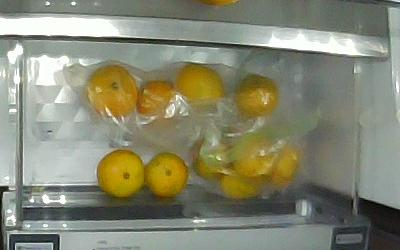tangerine: (95, 150, 145, 197), (145, 151, 188, 200)
tangerine_vinyl: (87, 65, 138, 120), (173, 63, 227, 108), (232, 133, 279, 182), (235, 74, 282, 120), (193, 136, 233, 183), (266, 142, 302, 193), (136, 81, 178, 121), (218, 169, 266, 199)
